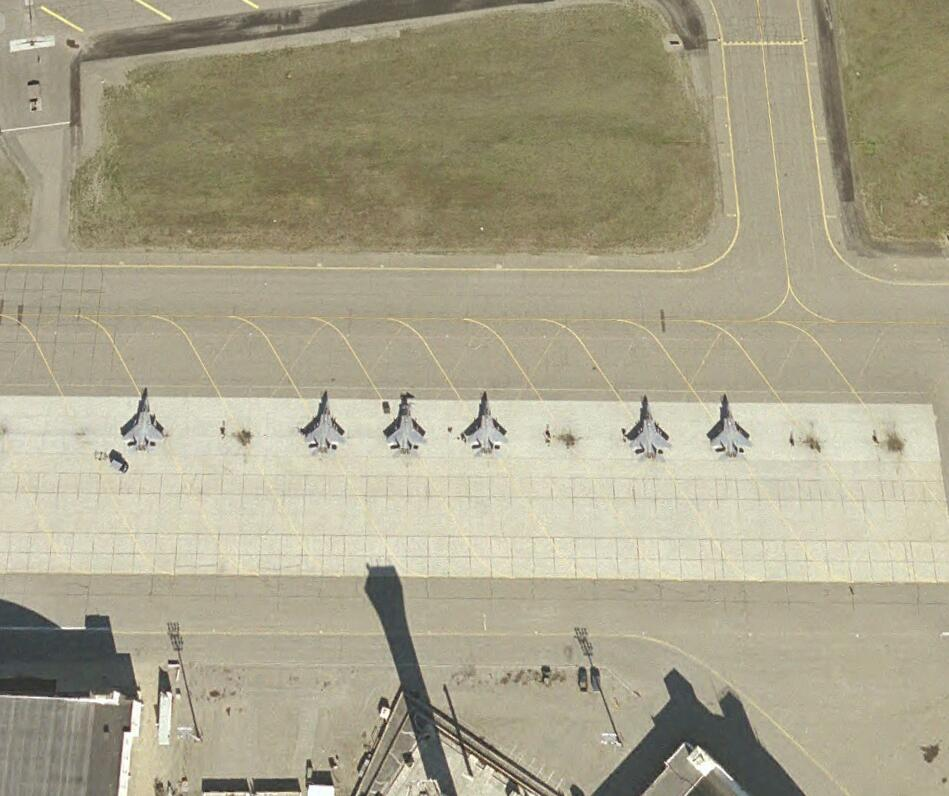A13: (118, 385, 168, 453), (461, 389, 510, 456), (621, 395, 672, 459), (300, 389, 348, 455), (382, 391, 427, 456), (710, 392, 751, 456)
